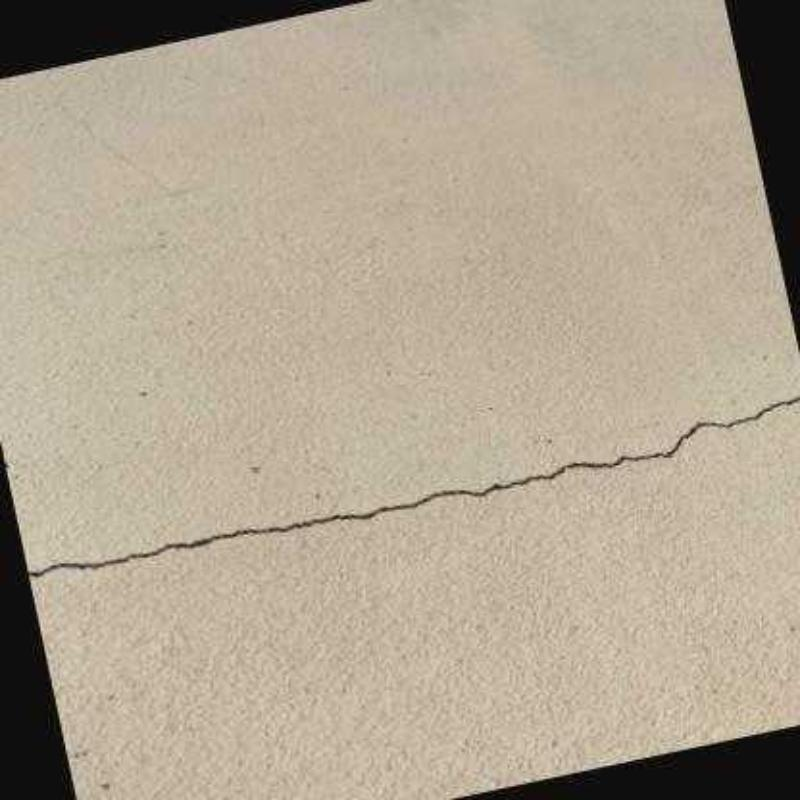pothole: (28, 398, 799, 577)
